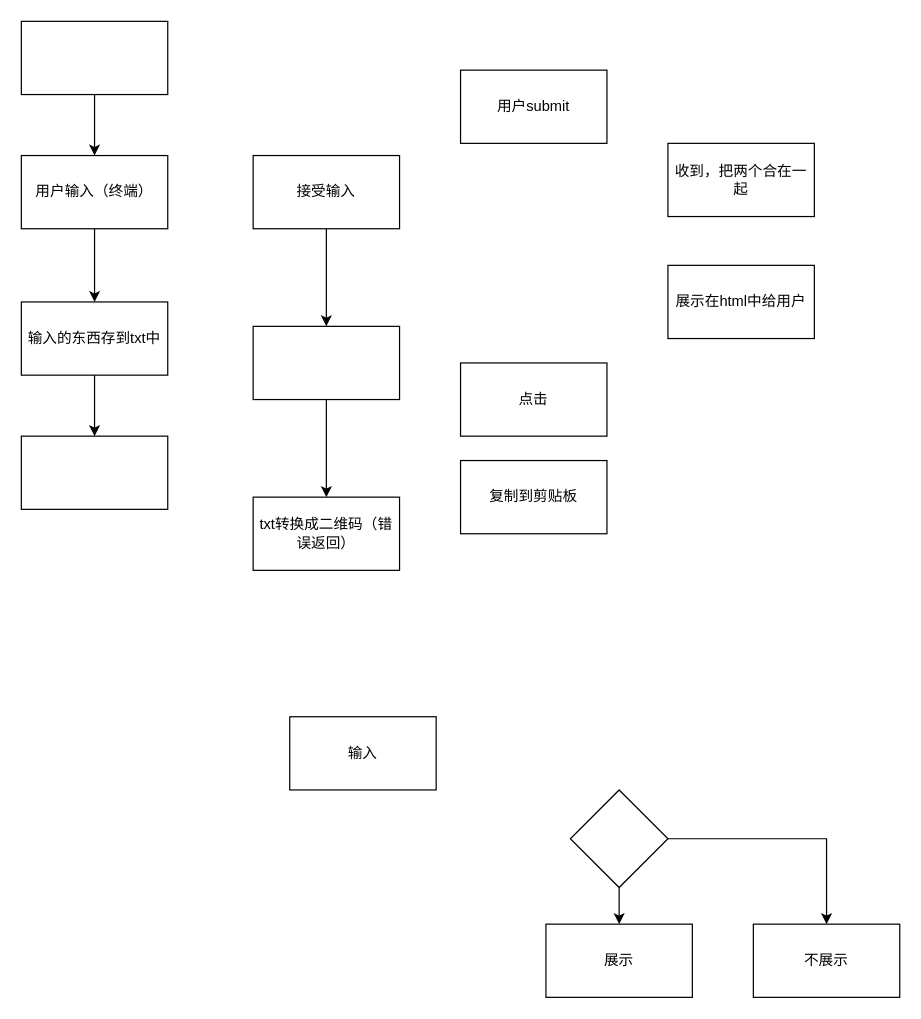
Image size: 921x1019. Some labels were removed from this diagram. The shapes that lost their labels are listed below. From the top down, each one's box as (x1, y1, x2, y2) in pixels, then its label:
(20, 20, 168, 95): 用终端运行js
(252, 325, 400, 400): 存到txt中（错误返回）
(20, 435, 168, 509): txt转换成二维码
(569, 789, 668, 888): 是否正确
